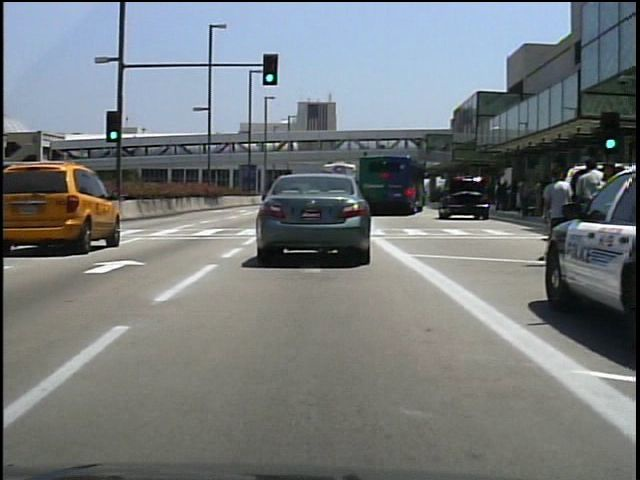person: (573, 153, 615, 277), (536, 161, 577, 267), (41, 169, 62, 220), (21, 166, 38, 229)
